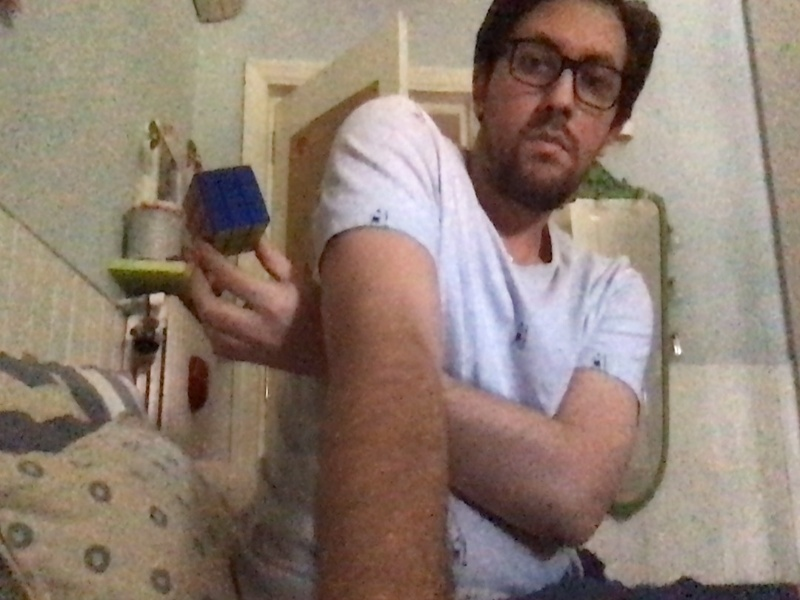rubik: (183, 165, 270, 257)
